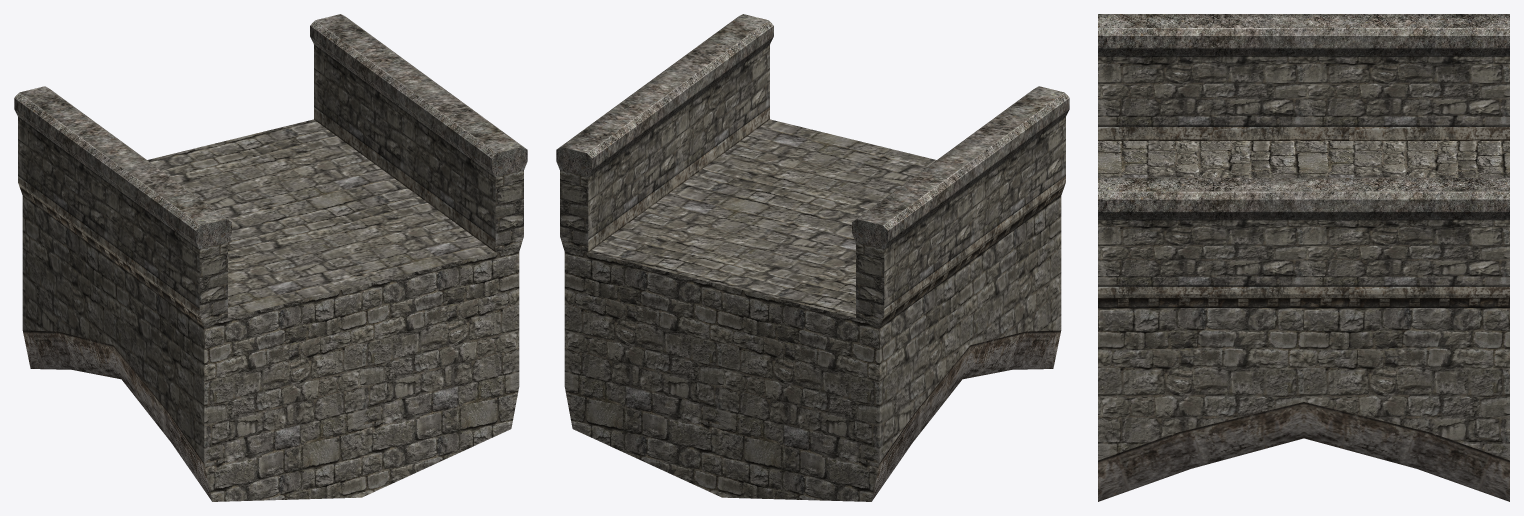
Rendered from StoneBridgeDoubleBracing.dae.
3 views of the same model, side by side, from view 1: azimuth 30°, elevation 25°; view 2: azimuth 150°, elevation 25°; view 3: azimuth 270°, elevation 25° (orthographic). The views are drawn at different scales.
Visible parts, largest first — view 1: DoubleBracing, DoubleBracingW; view 2: DoubleBracing, DoubleBracingW; view 3: DoubleBracingW, DoubleBracing.
Boxes of the visible parts, x1,y1,x2,y2 form: DoubleBracing: (22, 119, 519, 501); DoubleBracingW: (14, 14, 527, 501); DoubleBracing: (564, 119, 1061, 501); DoubleBracingW: (556, 14, 1069, 501); DoubleBracingW: (1098, 14, 1509, 501); DoubleBracing: (1098, 141, 1509, 460).
Bounding box in the file's own units: 4.22 × 3.78 × 4.
